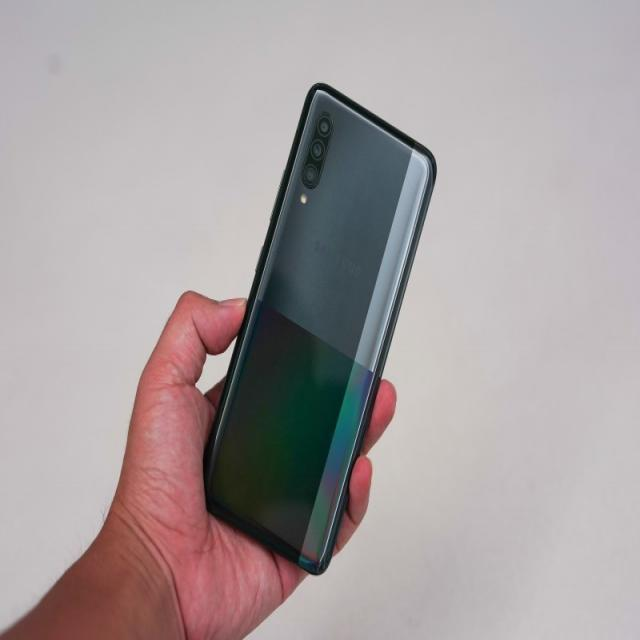lens: (298, 112, 335, 191)
phone: (203, 81, 439, 578)
